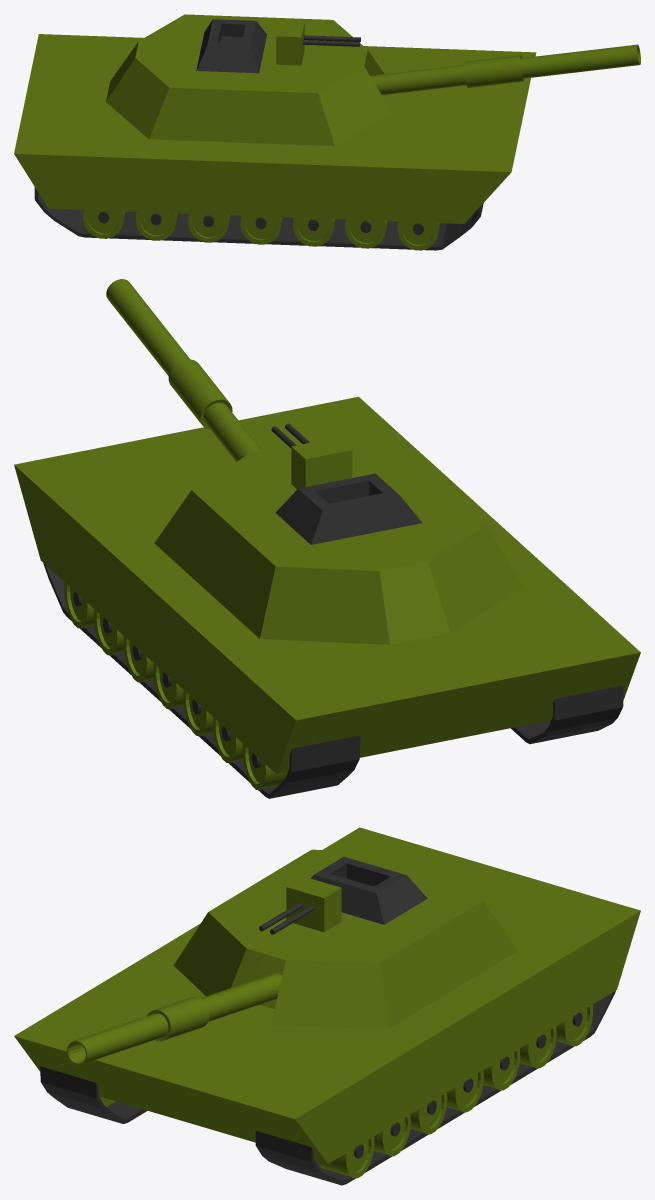
Rendered from Tanktest.glb.
3 views of the same model, one above another, from view 1: azimuth 30°, elevation 25°; view 2: azimuth 150°, elevation 25°; view 3: azimuth 270°, elevation 25° (orthographic). The views are drawn at different scales.
Parts seen in each view (by area): view 1: Box013, Box011, Cylinder058, Box009, Box012, Box010, Cylinder043, Cylinder052, Cylinder042, Cylinder057, Cylinder050, Cylinder053 (+1 smaller); view 2: Box013, Box011, Cylinder058, Box012, Box014, Box009, Box010, Cylinder039, Cylinder063, Cylinder038, Cylinder060, Cylinder066 (+2 smaller); view 3: Box013, Box011, Cylinder058, Box012, Box014, Box009, Box010, Cylinder060, Cylinder038, Cylinder066, Cylinder039, Cylinder064 (+2 smaller).
Part boxes in pixels (x1,y1,x2,y2): Box013: (14,34,536,223); Box011: (106,14,392,146); Cylinder058: (370,44,640,95); Box009: (34,187,483,250); Box012: (196,19,266,73); Box010: (276,20,304,65); Cylinder043: (240,215,282,244); Cylinder052: (188,214,230,242); Cylinder042: (345,219,387,248); Cylinder057: (397,221,440,250); Cylinder050: (292,217,335,246); Cylinder053: (135,212,177,240); Box013: (14,396,640,774); Box011: (154,444,523,644); Cylinder058: (106,279,261,461); Box012: (275,473,422,544); Box014: (43,563,360,798); Box009: (510,685,623,744); Box010: (291,437,352,489); Cylinder039: (242,744,287,790); Cylinder063: (153,663,183,709); Cylinder038: (183,690,213,736); Cylinder060: (64,582,94,628); Cylinder066: (123,636,154,682); Box013: (14,827,640,1163); Box011: (173,849,517,1028); Cylinder058: (66,973,282,1065); Box012: (310,856,427,924); Box014: (255,975,621,1185); Box009: (40,1066,147,1123); Box010: (286,876,341,932); Cylinder060: (317,1136,374,1178); Cylinder038: (483,1048,520,1090); Cylinder066: (410,1092,447,1134); Cylinder039: (556,1004,592,1046); Cylinder064: (374,1115,410,1156).
Bounding box in the file's own units: 528549 × 156960 × 463533.
